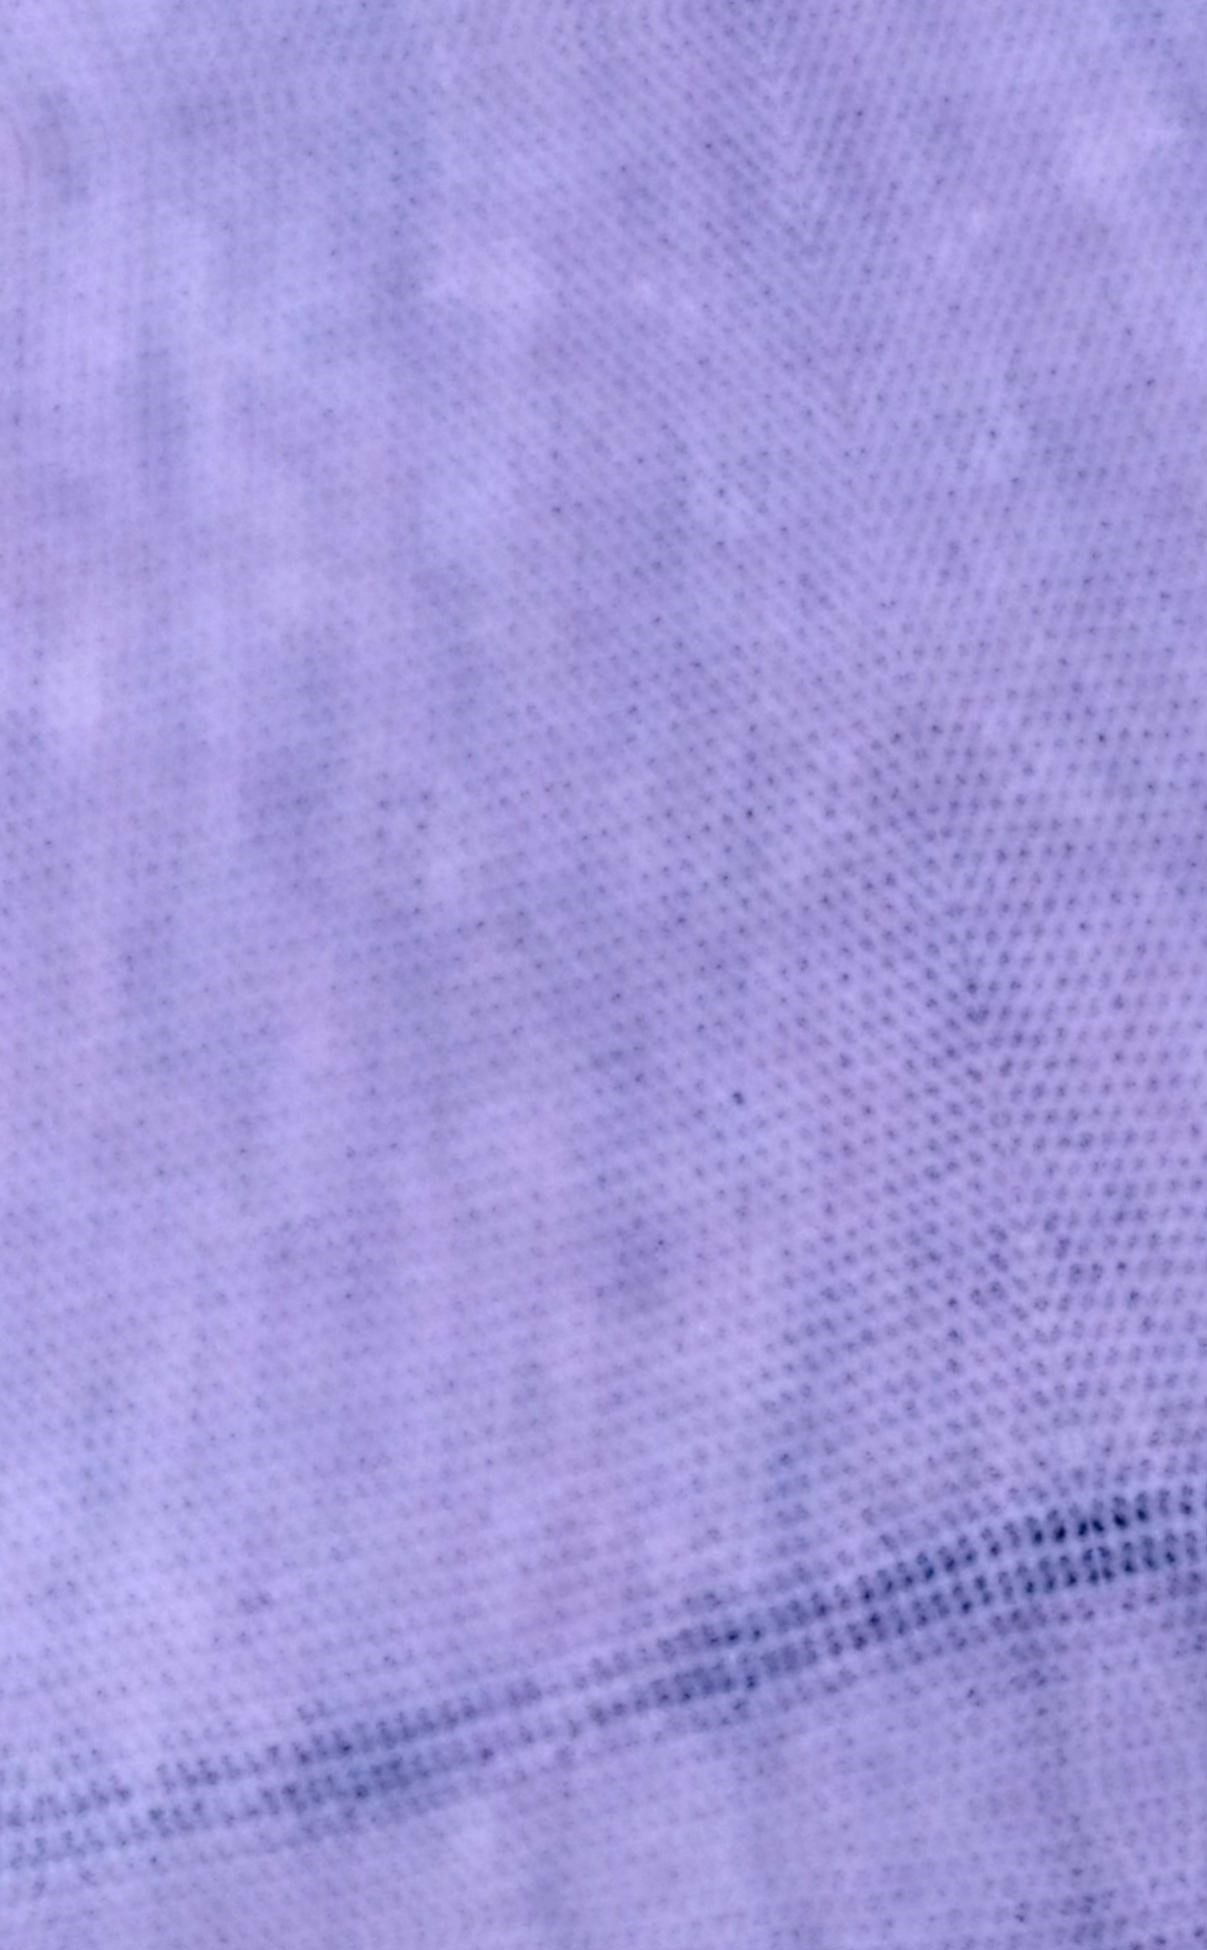slub: (11, 1422, 1200, 1915)
